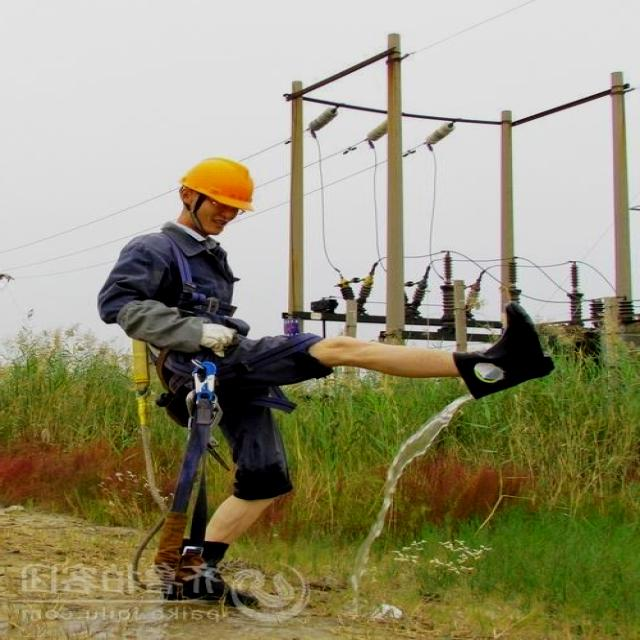face_nomask: (196, 189, 246, 229)
hand_glove: (124, 294, 238, 358)
head_helmet: (172, 155, 266, 211)
person: (54, 164, 485, 603)
shoes: (447, 302, 558, 398), (170, 534, 259, 610)
